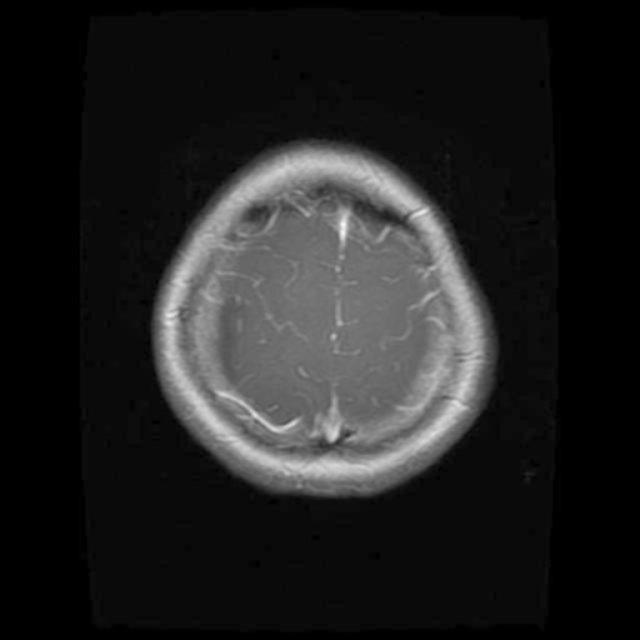pituitary tumor: (215, 296, 253, 372)
